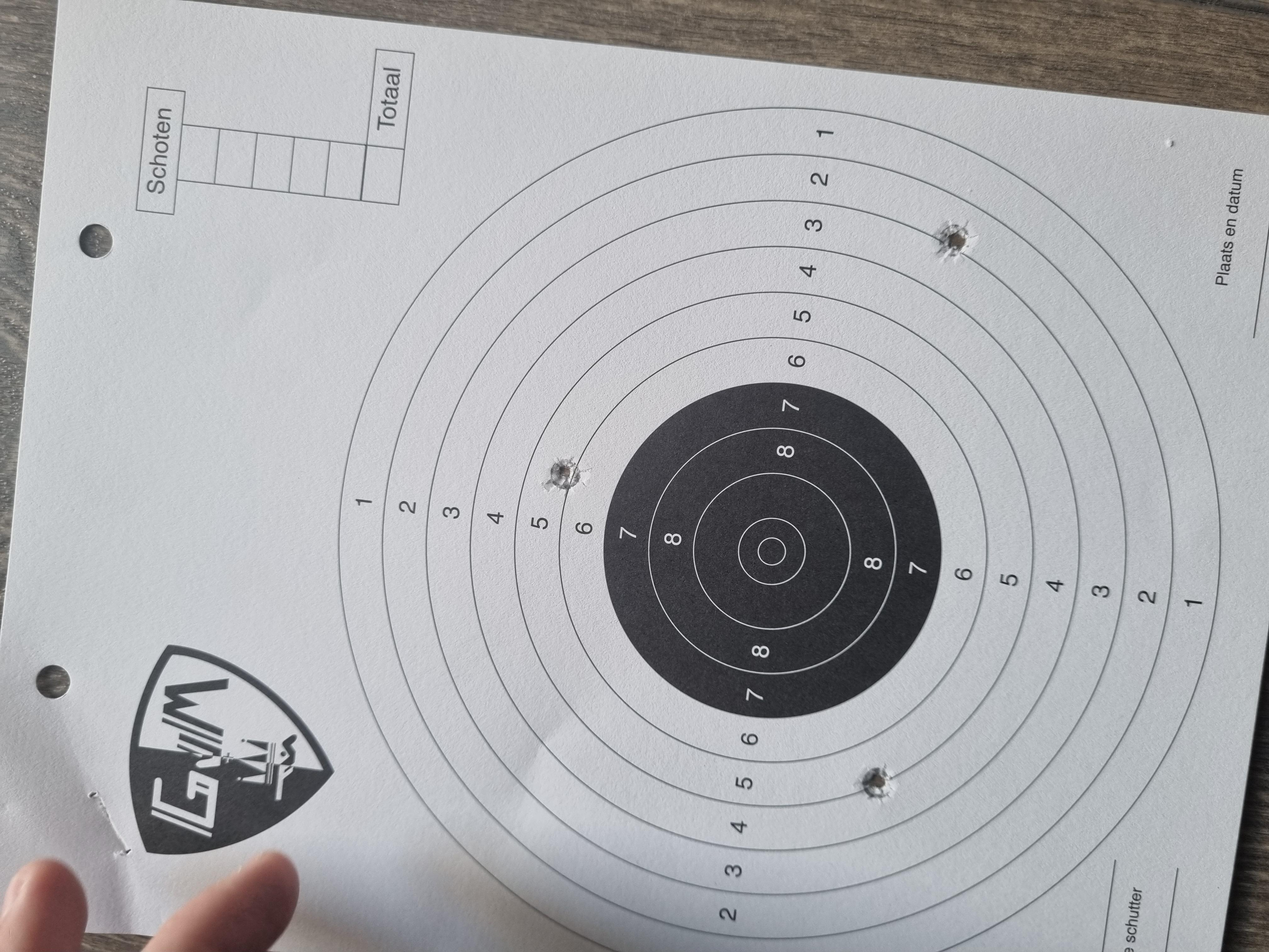hole: (604, 408, 660, 438), (199, 643, 255, 669), (925, 703, 975, 731)
